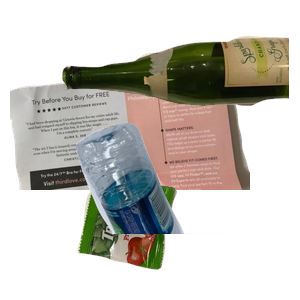glass: (60, 34, 300, 133)
paper: (10, 61, 250, 241)
plastic: (73, 120, 300, 300)
trash: (75, 156, 244, 300)
